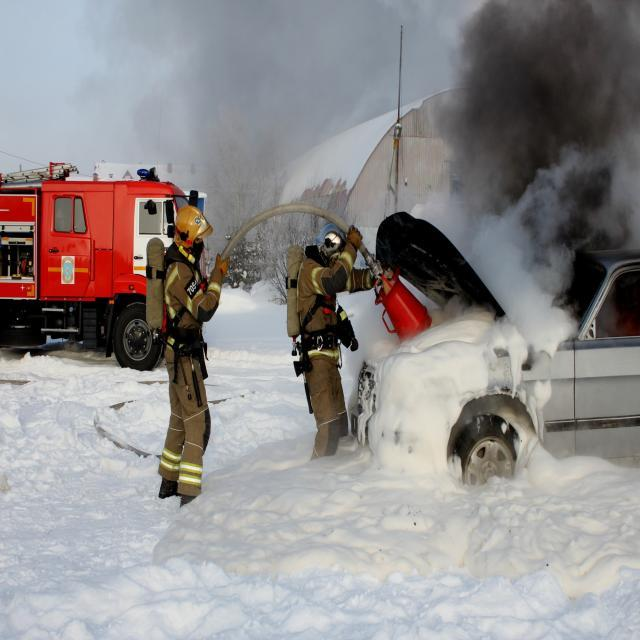Smoke: (431, 1, 640, 333)
